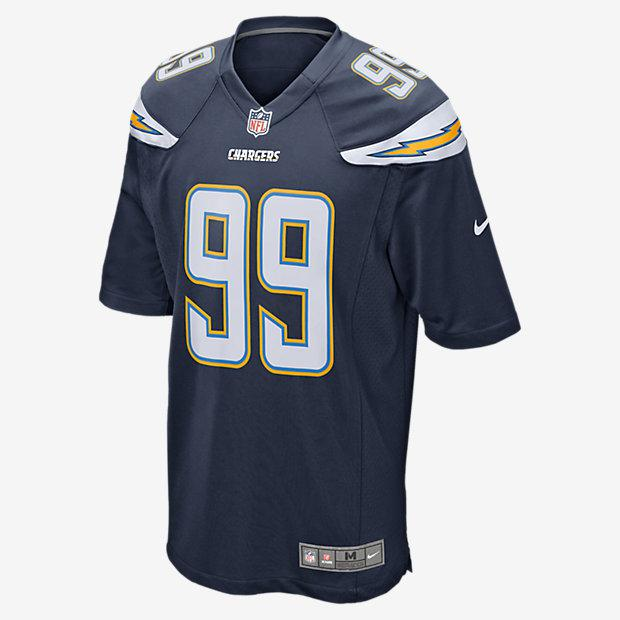teeshirt: (82, 10, 524, 618)
